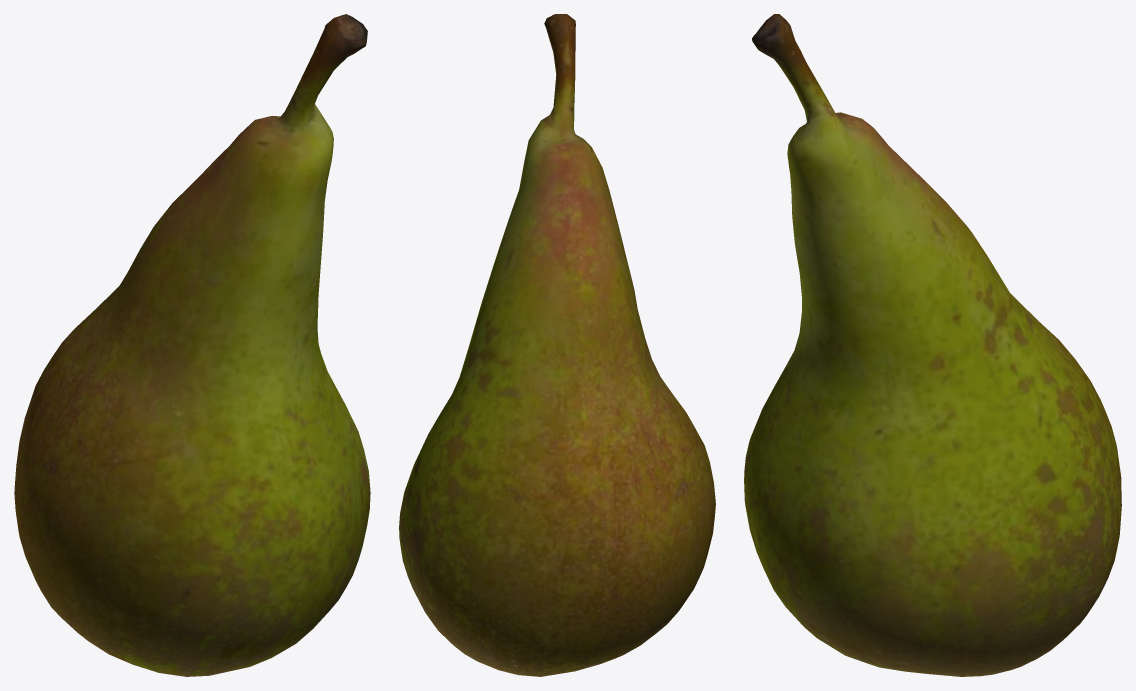
File: pear_a.glb
3 renders of one model, left to right at view 1: azimuth 30°, elevation 25°; view 2: azimuth 150°, elevation 25°; view 3: azimuth 270°, elevation 25°, orthographic. The views are drawn at different scales.
Visible parts, largest first — view 1: teeceidla_LOD0_TIER2_000; view 2: teeceidla_LOD0_TIER2_000; view 3: teeceidla_LOD0_TIER2_000.
Part boxes in pixels (x1,y1,x2,y2): teeceidla_LOD0_TIER2_000: [14, 14, 370, 676]; teeceidla_LOD0_TIER2_000: [399, 14, 715, 676]; teeceidla_LOD0_TIER2_000: [744, 14, 1121, 676].
Bounding box in the file's own units: 0.0692 × 0.1455 × 0.0738.
Materials: 1 (1 with a texture image).
